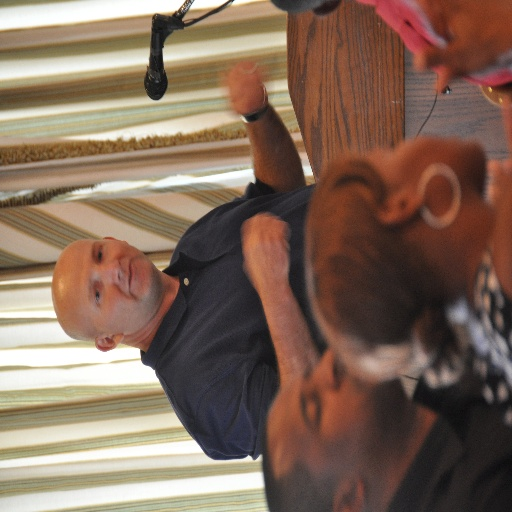hand: (412, 0, 511, 78), (241, 211, 292, 296), (226, 51, 269, 110)
